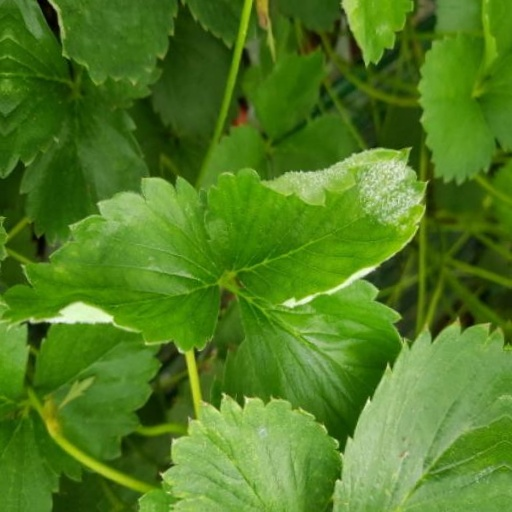Powdery Mildew Leaf: (0, 156, 229, 334), (202, 205, 426, 371)
